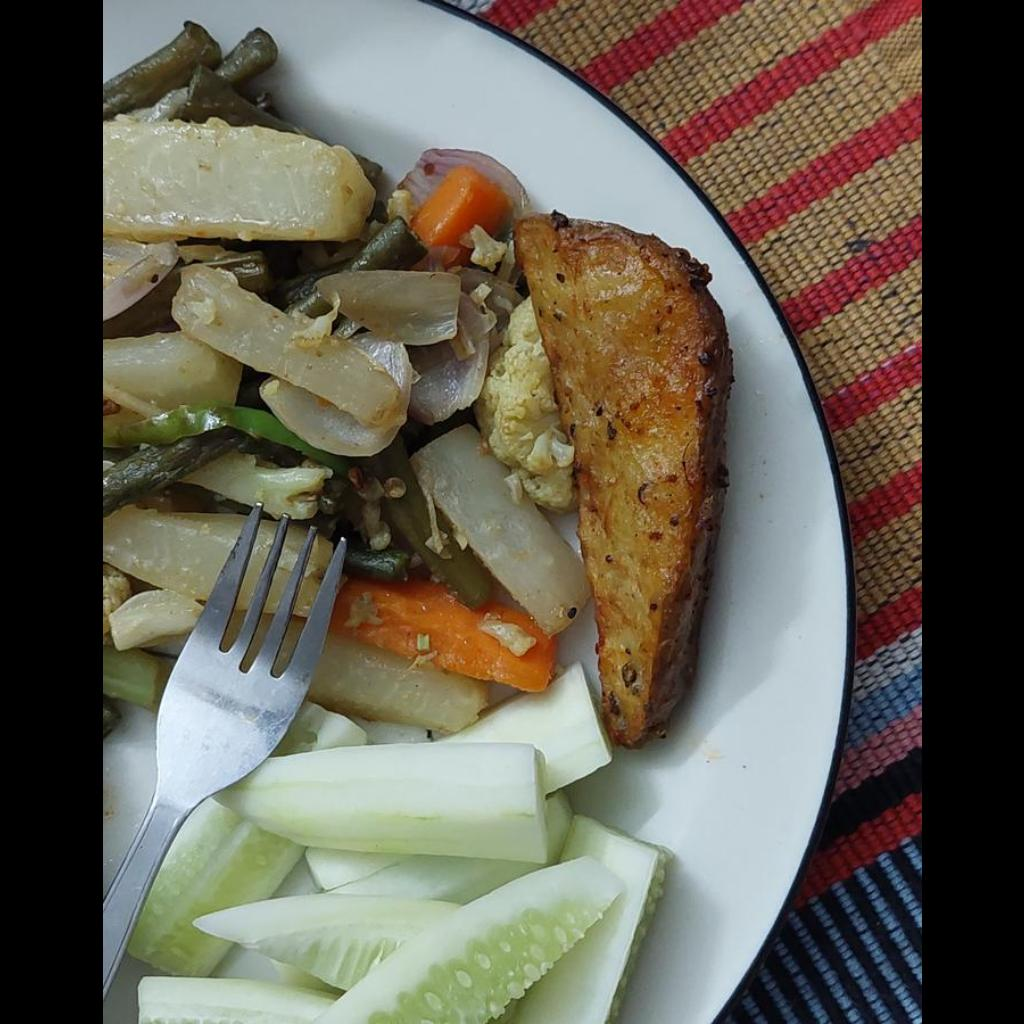cucumber: (127, 667, 663, 1023)
potato: (514, 213, 731, 746)
vegetable: (102, 21, 583, 750)
